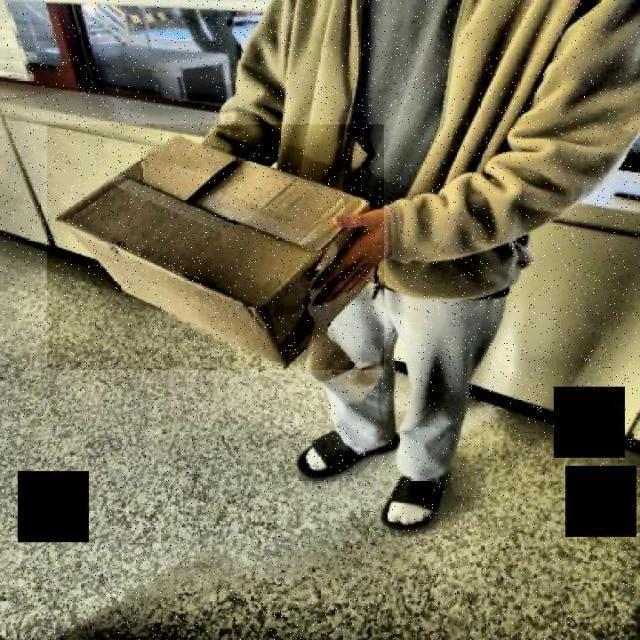box: (47, 124, 384, 370)
